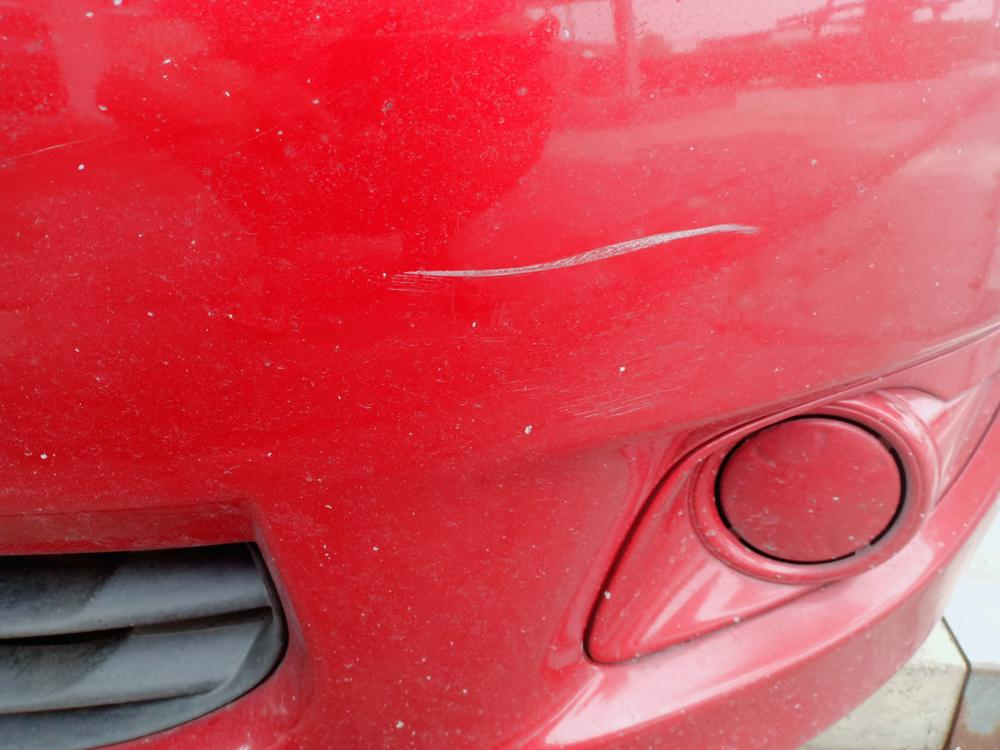scratch: (383, 217, 782, 286)
